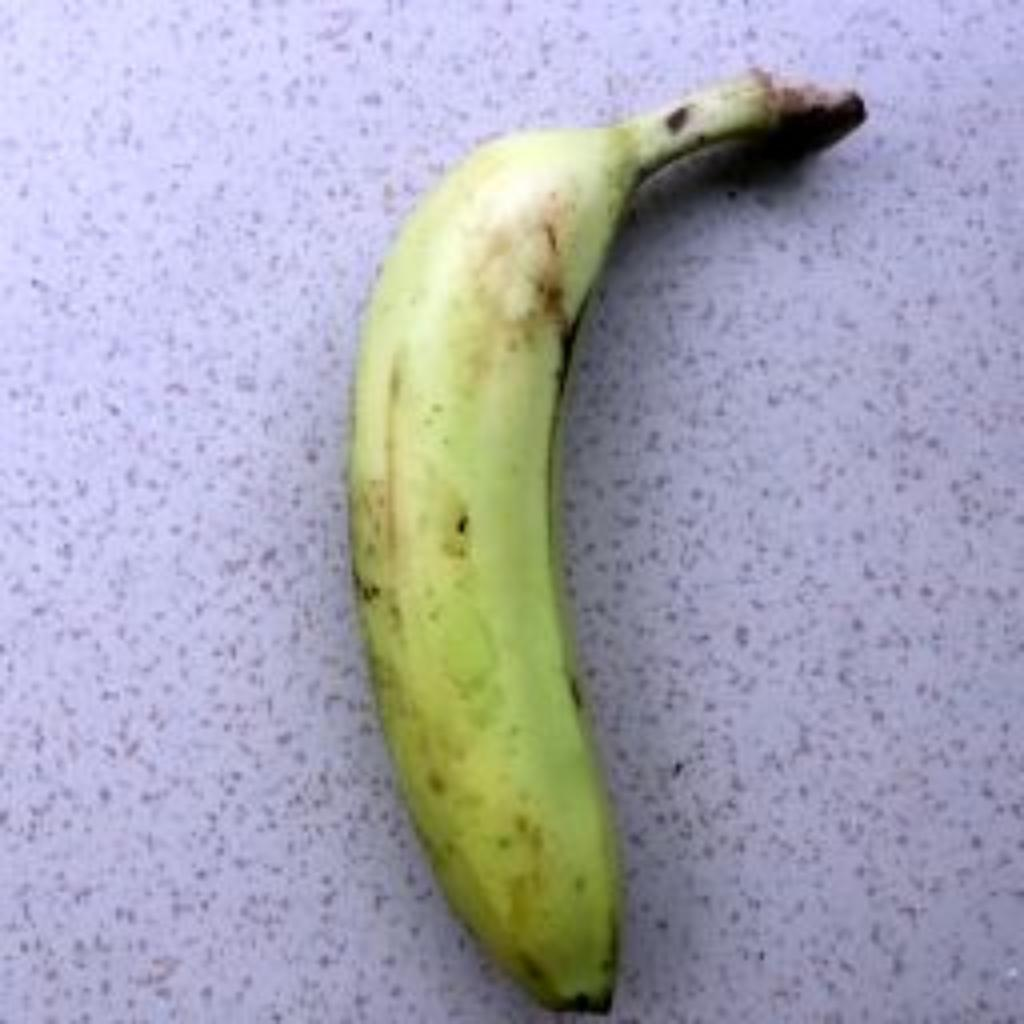banana: (344, 72, 864, 1020)
